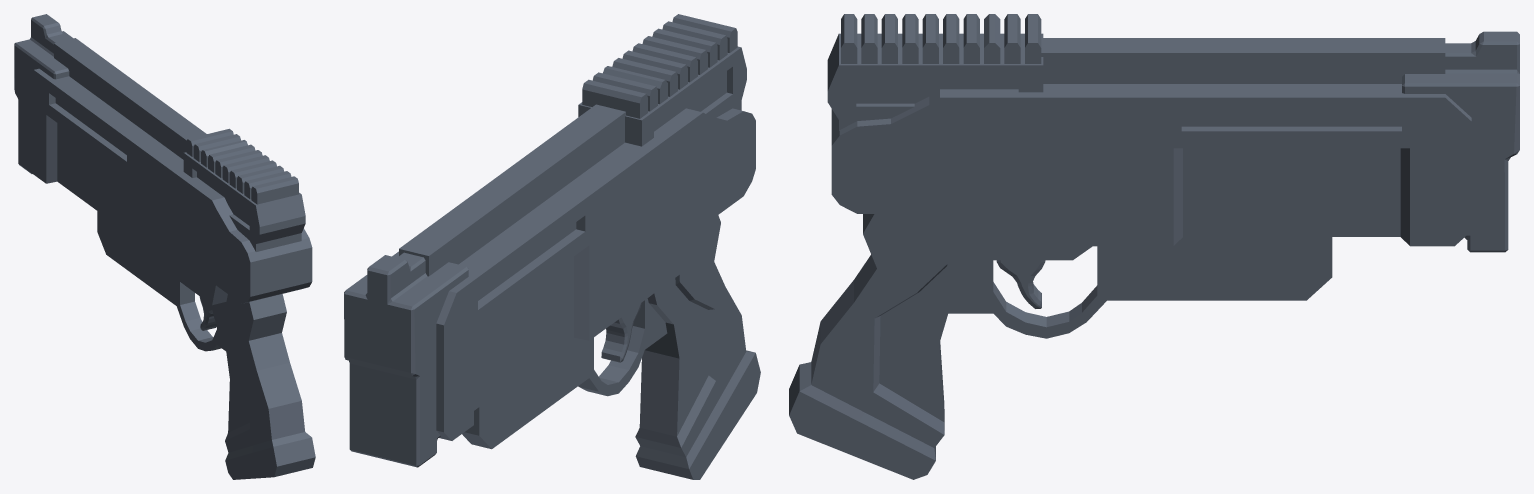
File: pistol.glb
3 views of the same model, side by side, from view 1: azimuth 30°, elevation 25°; view 2: azimuth 150°, elevation 25°; view 3: azimuth 270°, elevation 25° (orthographic). The views are drawn at different scales.
Visible parts, largest first — view 1: Pistol_Cube.002; view 2: Pistol_Cube.002; view 3: Pistol_Cube.002.
Boxes of the visible parts, x1,y1,x2,y2 form: Pistol_Cube.002: [14, 14, 315, 479]; Pistol_Cube.002: [344, 14, 760, 479]; Pistol_Cube.002: [789, 14, 1519, 479].
Size of the model in its own units: 0.0545 by 0.26 by 0.393.
